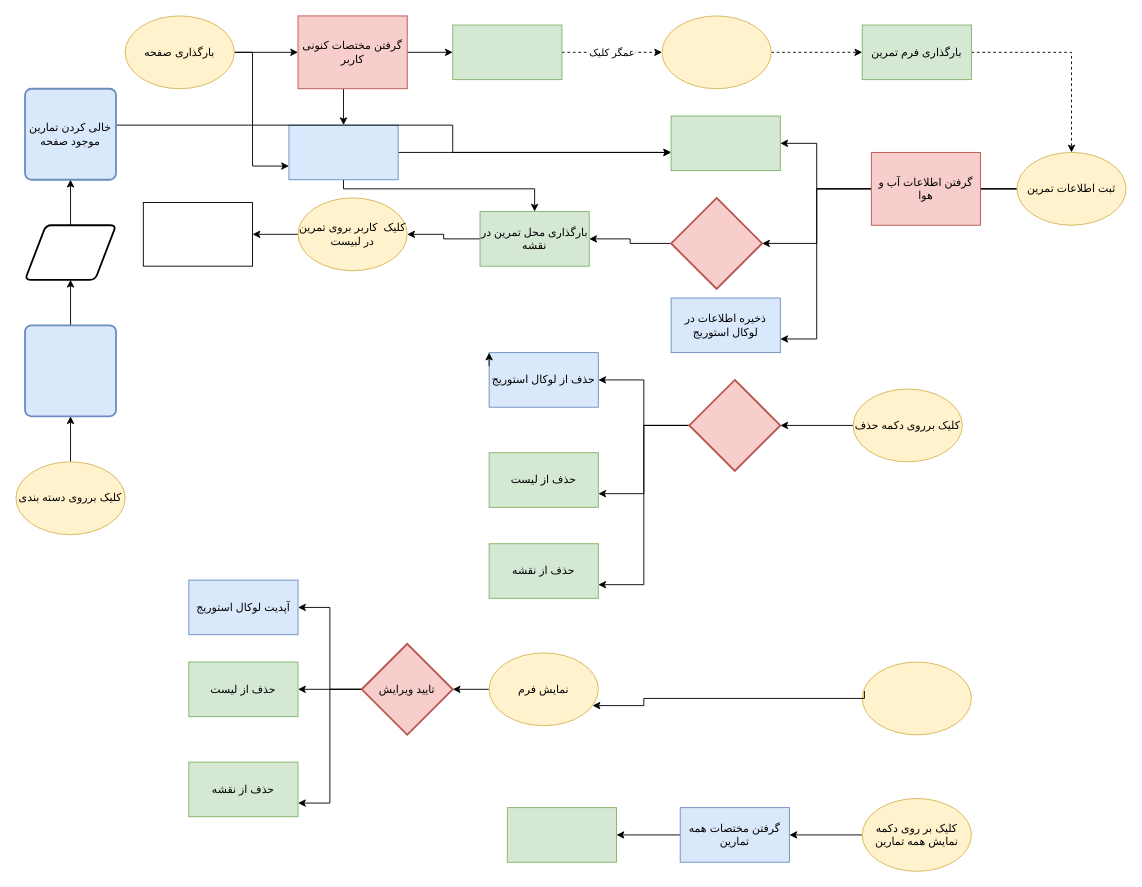
This 1142x887 diagram has some shape labels left out. The shapes that lost their labels are listed below. From the top down, each one's centre as x and y in pixels, then its label:
At [507,52]: "بارگذاری نقشه برروی محل کنونی کاربر".
At [716,52]: "کلیک کاربر برروی نقشه".
At [343,152]: "بارگذاری اطلاعات ذخیره شده".
At [725,143]: "بارگذاری اطلاعات در لیست".
At [70,252]: "ایجاد آرایه جدید".
At [197,234]: "حرکت نقشه برروی محل تمرین".
At [716,243]: "تایید اضافه کردن نقطه پایان".
At [70,370]: "گرفتن نوع دسته بندی".
At [734,425]: "تایید حذف".
At [916,698]: "کلیک برروی دکمه ویرایش".
At [561,834]: "زوم به نمایش همه تمارین".
